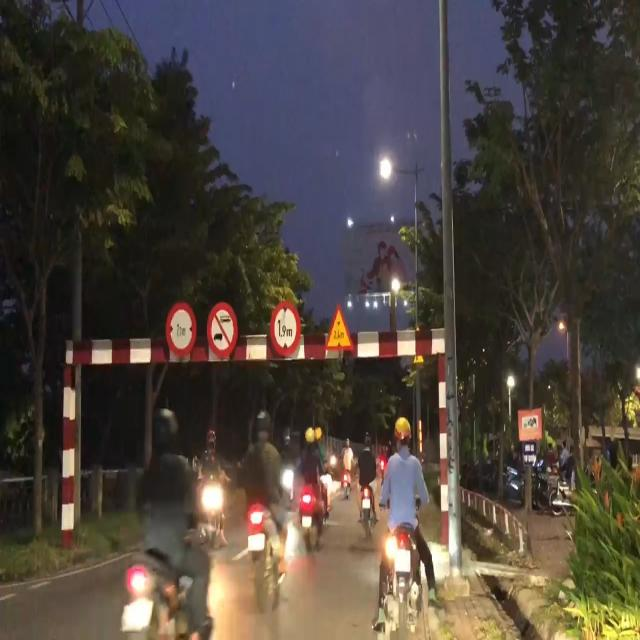Bien bao cam xe oto khach va xe oto tai: (204, 297, 241, 361)
Bien bao chieu cao tinh khong thuc te: (324, 300, 357, 354)
Bien bao han che chieu cao: (268, 297, 302, 366)
